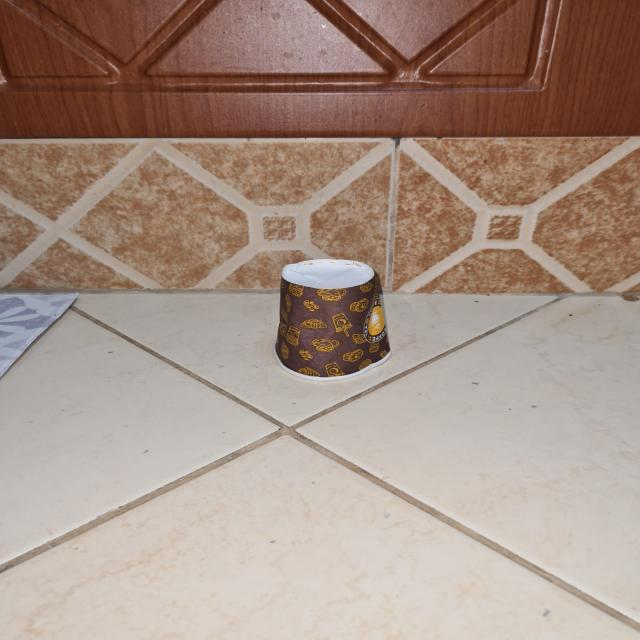cups: (267, 258, 395, 382)
